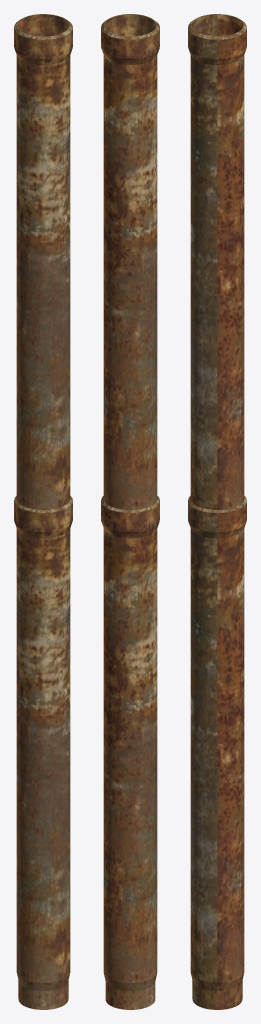
File: PIPA.fbx
3 renders of one model, left to right at view 1: azimuth 90°, elevation 25°; view 2: azimuth 150°, elevation 25°; view 3: azimuth 270°, elevation 25°, orthographic.
Visible parts, largest first — view 1: Cylinder.003, Cylinder.011; view 2: Cylinder.003, Cylinder.011; view 3: Cylinder.003, Cylinder.011.
Part boxes in pixels (x1,y1,x2,y2): Cylinder.003: [14, 496, 72, 1009]; Cylinder.011: [14, 14, 72, 509]; Cylinder.003: [101, 496, 159, 1009]; Cylinder.011: [101, 14, 159, 509]; Cylinder.003: [188, 496, 246, 1009]; Cylinder.011: [188, 14, 246, 509].
Size of the model in its own units: 49.96 by 911 by 49.96.
1 material, 1 textured.
